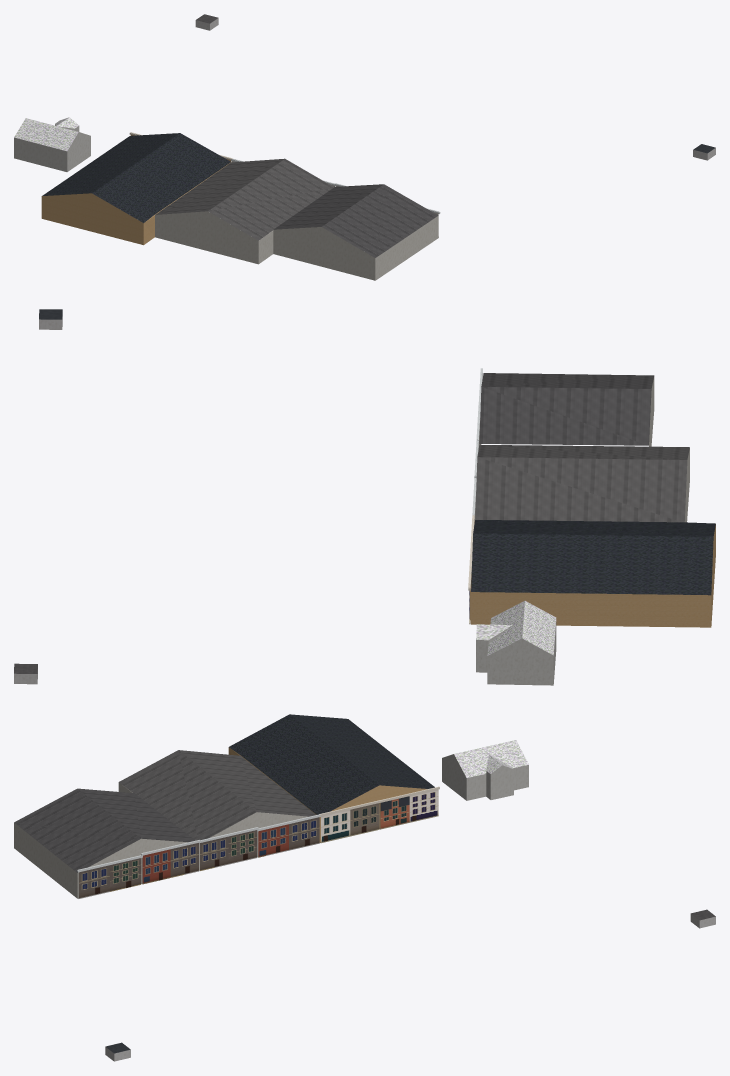
3 renders of one model, top to bottom at view 1: azimuth 30°, elevation 25°; view 2: azimuth 150°, elevation 25°; view 3: azimuth 270°, elevation 25°, orthographic. The views are drawn at different scales.
Parts seen in each view (by area): view 1: bldg_6004581131_roof, bldg_6004581132_roof, bldg_6004581134_roof, bldg_6004581134, bldg_6004581132, bldg_6004581131, bldg_6004321927, bldg_6004321927_roof; view 2: bldg_6004581131_roof, bldg_6004581132_roof, bldg_6004581134_roof, bldg_6004581131, bldg_6004321927, bldg_6004321927_roof; view 3: bldg_6004581131_roof, bldg_6004581132_roof, bldg_6004581134_roof, bldg_6004581134, bldg_6004321927, bldg_6004581134_facade1, bldg_6004581132_facade0, bldg_6004581134_facade0, bldg_6004581132_facade1, bldg_6004581131_facade1, bldg_6004581131_facade0, bldg_6004321927_roof (+2 smaller).
Boxes of the visible parts, x1,y1,x2,y2 form: bldg_6004581131_roof: [42, 133, 230, 222]; bldg_6004581132_roof: [155, 158, 333, 240]; bldg_6004581134_roof: [274, 184, 438, 257]; bldg_6004581134: [273, 216, 438, 280]; bldg_6004581132: [155, 211, 273, 264]; bldg_6004581131: [41, 162, 230, 245]; bldg_6004321927: [14, 124, 90, 171]; bldg_6004321927_roof: [14, 117, 78, 151]; bldg_6004581131_roof: [471, 520, 715, 595]; bldg_6004581132_roof: [475, 444, 689, 522]; bldg_6004581134_roof: [479, 373, 654, 445]; bldg_6004581131: [471, 524, 715, 627]; bldg_6004321927: [476, 622, 556, 685]; bldg_6004321927_roof: [476, 601, 556, 655]; bldg_6004581131_roof: [229, 714, 434, 814]; bldg_6004581132_roof: [119, 750, 315, 840]; bldg_6004581134_roof: [14, 788, 195, 872]; bldg_6004581134: [14, 823, 187, 898]; bldg_6004321927: [442, 754, 528, 800]; bldg_6004581134_facade1: [77, 855, 142, 898]; bldg_6004581132_facade0: [257, 814, 320, 857]; bldg_6004581134_facade0: [141, 840, 200, 884]; bldg_6004581132_facade1: [199, 827, 258, 870]; bldg_6004581131_facade1: [319, 800, 380, 843]; bldg_6004581131_facade0: [380, 786, 439, 829]; bldg_6004321927_roof: [454, 740, 528, 777].
Size of the model in its own units: 136 by 9.05 by 127.
Materials: 15 (11 with a texture image).
